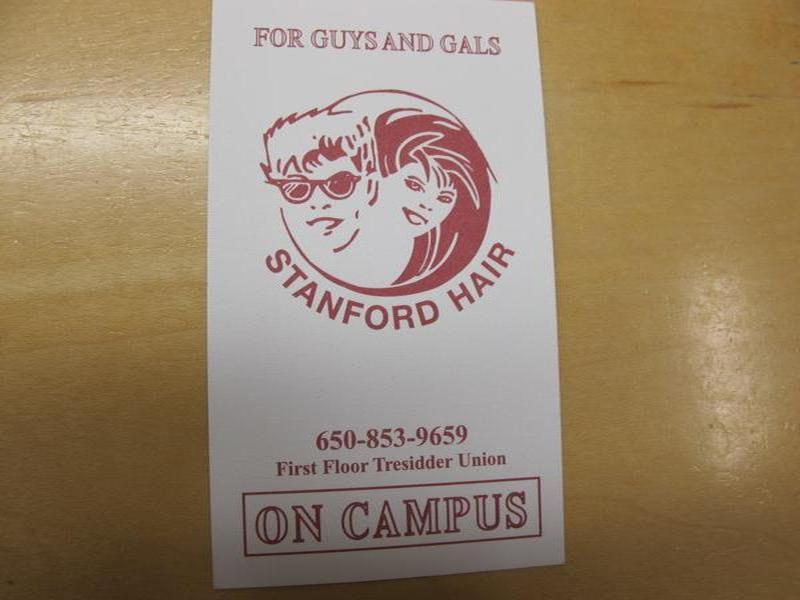card: (207, 3, 559, 588)
